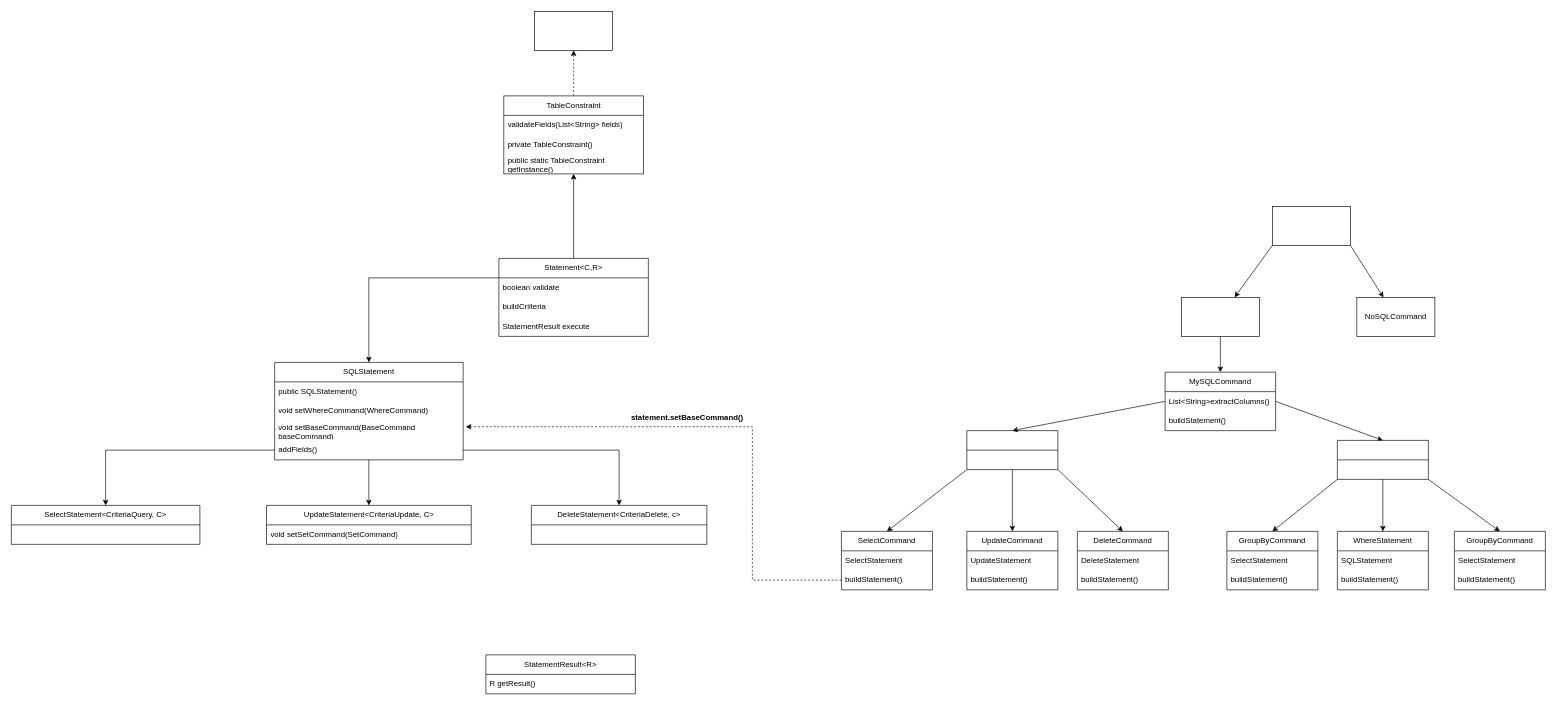
Some shapes in this 1557 by 705 pixel diagram are drawn without their labels. The shapes that lost their labels are listed below. From the top down, each one's centre as x and y in pixels, then its label:
At point (573, 30): "Singleton".
At point (1311, 225): "Command".
At point (1220, 316): "SQLCommand".
At point (1012, 450): "BaseCommand".
At point (1382, 459): "CommandDecorator".
